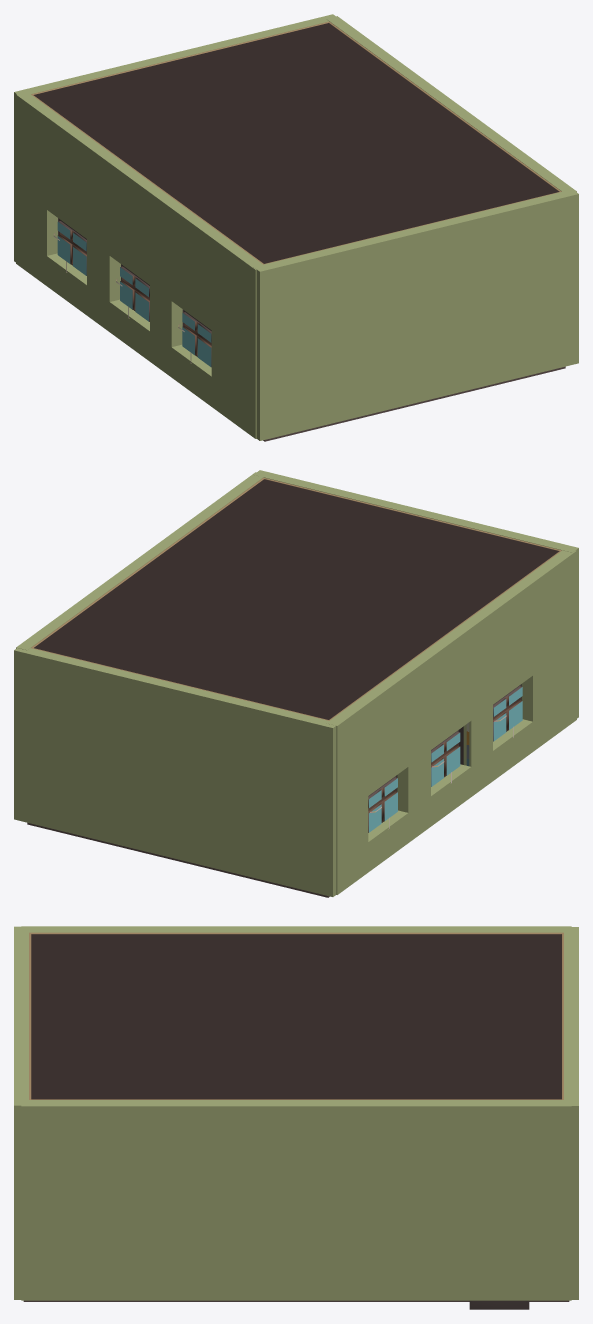
The model's file is Musikraum.fbx.
3 renders of one model, top to bottom at view 1: azimuth 30°, elevation 25°; view 2: azimuth 150°, elevation 25°; view 3: azimuth 270°, elevation 25°, orthographic. The views are drawn at different scales.
Visible parts, largest first — view 1: Decke.002, wand2, wand1, Cube.056, wand3, wand4, Cube.020, Cube.003, Boden; view 2: Decke.002, wand4, wand1, Cube.056, wand3, wand2, Cube.003, Cube.020, Boden; view 3: wand3, Decke.002, wand2, wand4, wand1, Cube.020, Cube.003, Boden, Tür.003.
Boxes of the visible parts, x1,y1,x2,y2 form: Decke.002: [33, 23, 558, 263]; wand2: [253, 189, 578, 440]; wand1: [16, 92, 262, 438]; Cube.056: [53, 218, 211, 367]; wand3: [326, 16, 576, 191]; wand4: [14, 14, 335, 262]; Cube.020: [31, 21, 329, 264]; Cube.003: [264, 22, 561, 264]; Boden: [263, 366, 565, 441]; Decke.002: [34, 479, 559, 719]; wand4: [14, 648, 336, 896]; wand1: [326, 550, 576, 894]; Cube.056: [368, 684, 522, 832]; wand3: [16, 472, 263, 650]; wand2: [253, 470, 578, 718]; Cube.003: [31, 477, 561, 647]; Cube.020: [31, 551, 560, 720]; Boden: [27, 822, 329, 897]; wand3: [21, 1100, 571, 1300]; Decke.002: [31, 934, 561, 1099]; wand2: [14, 926, 28, 1299]; wand4: [564, 927, 578, 1299]; wand1: [21, 926, 571, 932]; Cube.020: [29, 932, 563, 1099]; Cube.003: [29, 933, 561, 1099]; Boden: [23, 1300, 569, 1301]; Tür.003: [469, 1300, 529, 1309].
Bounding box in the file's own units: 1009 × 535 × 1335.
